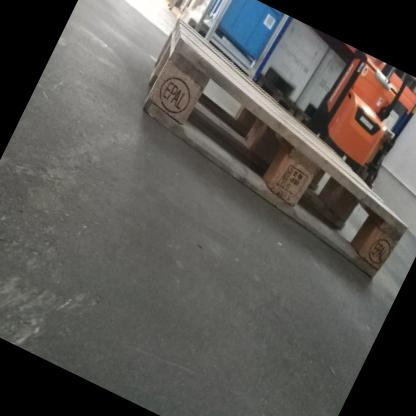BoxFace: (139, 15, 413, 288)
